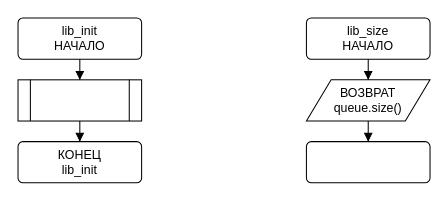
Image size: 448x201. Some labels were removed from this diagram. The shapes that lost their labels are listed below. From the top down, each one's centre as x and y in pixels, then its label:
At pixel 79 100: "queue.clear()".
At pixel 367 162: "КОНЕЦ lib_size".
